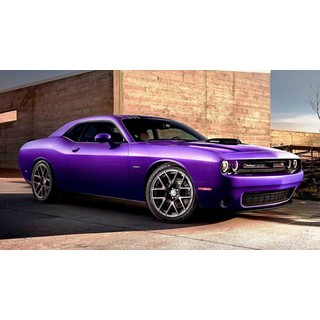car: (12, 112, 309, 226)
